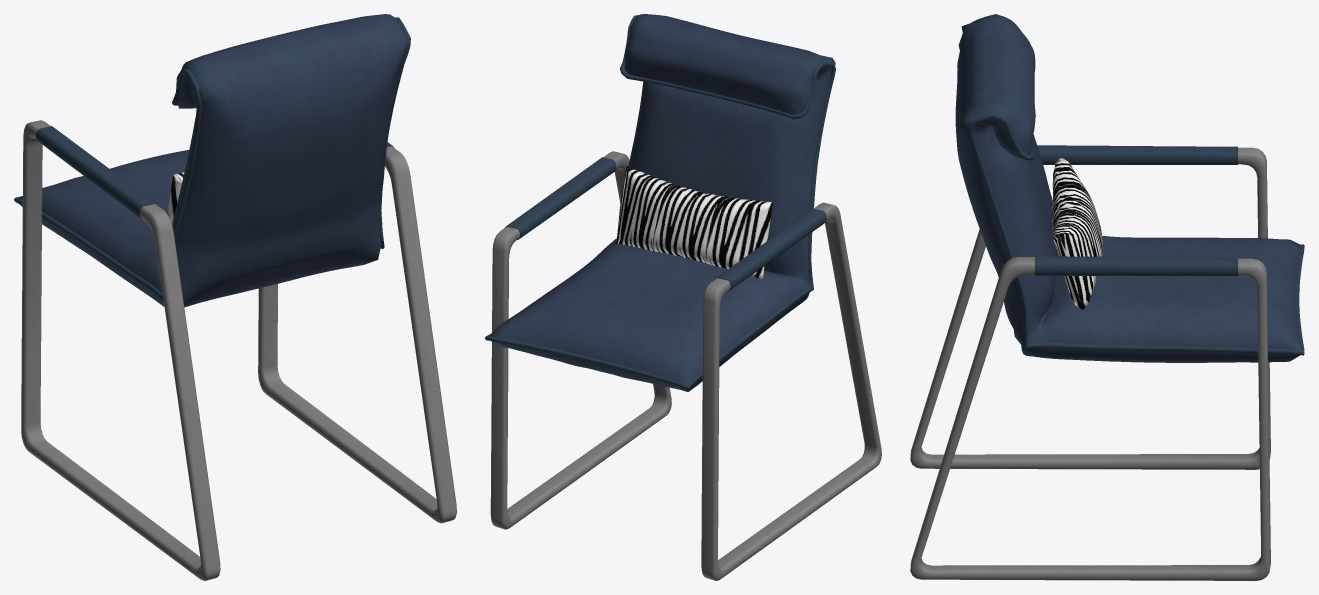
The model's file is XOBC_010.gltf.
The picture shows the model from 3 angles, left to right: view 1: azimuth 30°, elevation 25°; view 2: azimuth 150°, elevation 25°; view 3: azimuth 270°, elevation 25°; orthographic projection. The views are drawn at different scales.
Visible parts, largest first — view 1: Cube; view 2: Cube; view 3: Cube.
Boxes of the visible parts, x1,y1,x2,y2 form: Cube: [14, 14, 456, 580]; Cube: [485, 14, 881, 580]; Cube: [910, 14, 1304, 580].
Size of the model in its own units: 0.6885 by 1.23 by 0.9499.
Materials: 1 (1 with a texture image).
